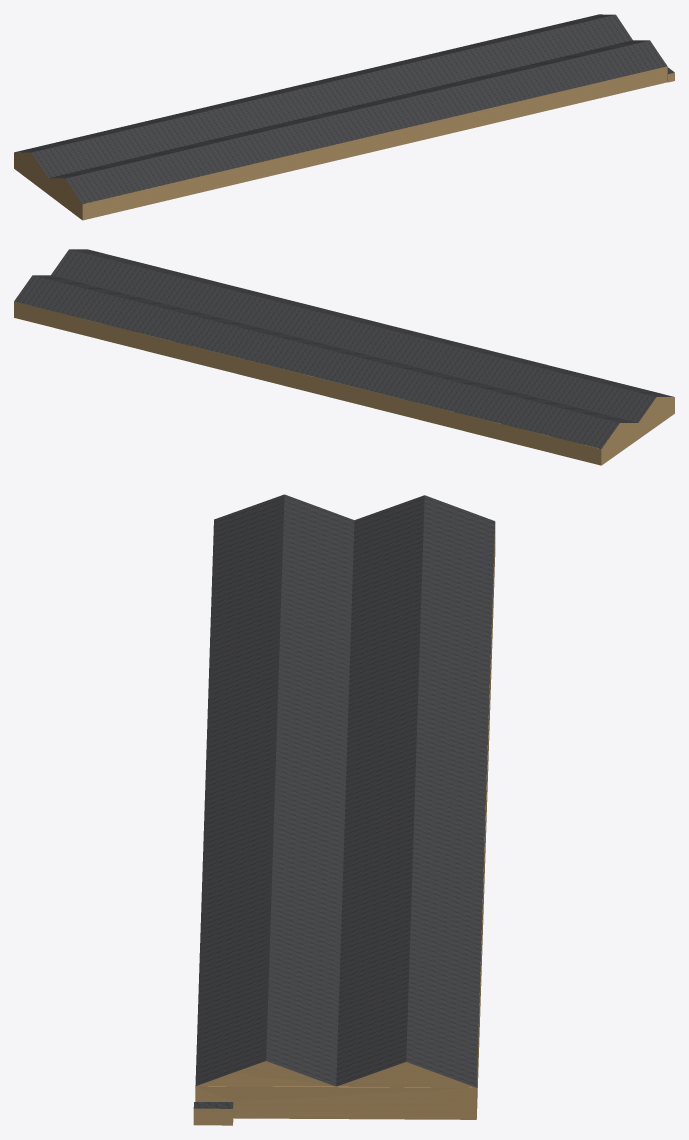
3 renders of one model, top to bottom at view 1: azimuth 30°, elevation 25°; view 2: azimuth 150°, elevation 25°; view 3: azimuth 270°, elevation 25°, orthographic. The views are drawn at different scales.
Visible parts, largest first — view 1: bldg_6004580900_roof, bldg_6004580900; view 2: bldg_6004580900_roof, bldg_6004580900; view 3: bldg_6004580900_roof, bldg_6004580900.
Part boxes in pixels (x1,y1,x2,y2): bldg_6004580900_roof: (15, 14, 674, 204); bldg_6004580900: (14, 14, 674, 220); bldg_6004580900_roof: (14, 249, 673, 448); bldg_6004580900: (14, 301, 674, 465); bldg_6004580900_roof: (193, 494, 495, 1108); bldg_6004580900: (193, 524, 495, 1125).
Size of the model in its own units: 288 by 13.58 by 63.88.
2 materials, 2 textured.
